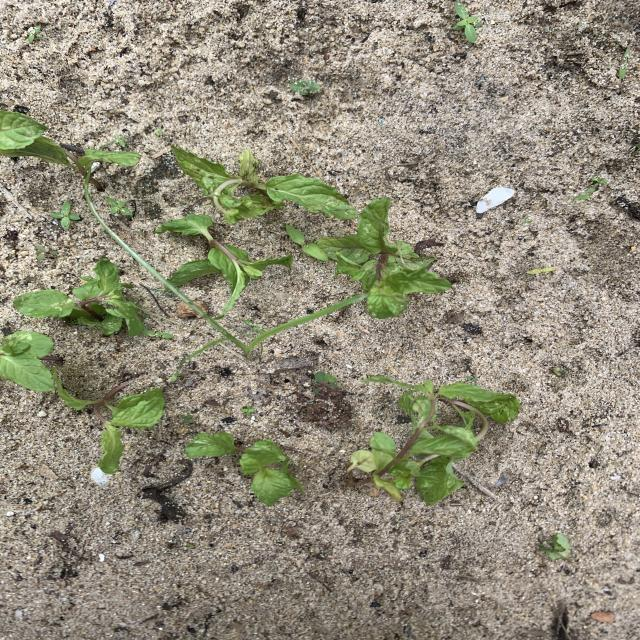crop: (348, 377, 519, 502), (316, 198, 451, 317), (174, 148, 355, 223), (156, 214, 291, 310), (14, 258, 145, 334), (57, 380, 163, 472), (0, 111, 139, 175), (185, 432, 303, 504), (1, 331, 54, 391)
weed: (85, 189, 363, 358), (287, 226, 327, 259), (453, 3, 483, 41), (539, 533, 573, 562), (51, 201, 79, 228), (574, 177, 606, 199), (106, 197, 133, 217), (289, 80, 320, 95), (315, 372, 337, 393), (37, 245, 58, 259), (143, 330, 174, 339), (27, 26, 40, 42), (528, 268, 555, 273), (241, 406, 255, 414), (552, 367, 565, 375), (182, 415, 194, 423), (171, 373, 179, 381)
